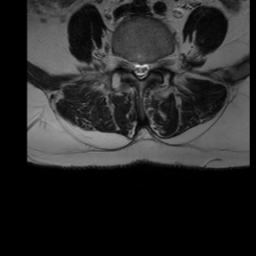CCS_stenosis: (137, 57, 144, 84)
LFS_normal: (151, 53, 158, 76)
LLS_normal: (144, 56, 151, 81)
RFS_normal: (122, 50, 129, 74)
RLS_normal: (129, 54, 137, 80)
